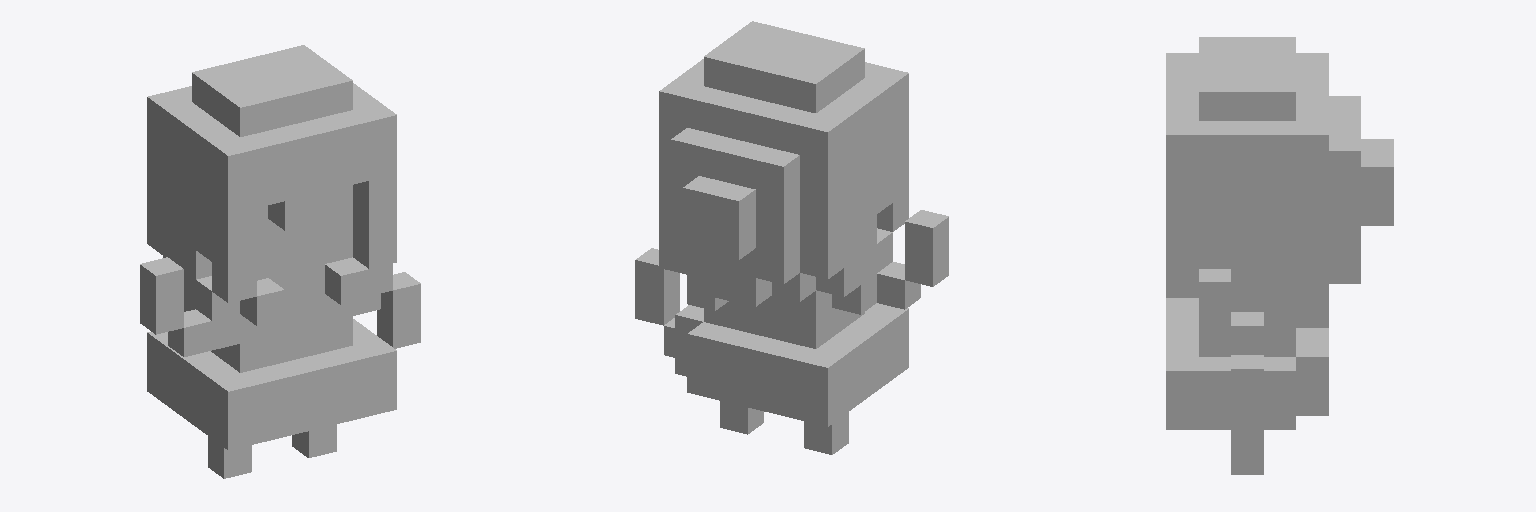
File: 시위꾼 일반.obj
3 views of the same model, side by side, from view 1: azimuth 30°, elevation 25°; view 2: azimuth 150°, elevation 25°; view 3: azimuth 270°, elevation 25° (orthographic).
Visible parts, largest first — view 1: object 1; view 2: object 1; view 3: object 1.
Part boxes in pixels (x1,y1,x2,y2): object 1: (140, 45, 420, 478); object 1: (635, 21, 948, 454); object 1: (1166, 37, 1393, 474).
Bounding box in the file's own units: 1 × 1.3 × 0.7.